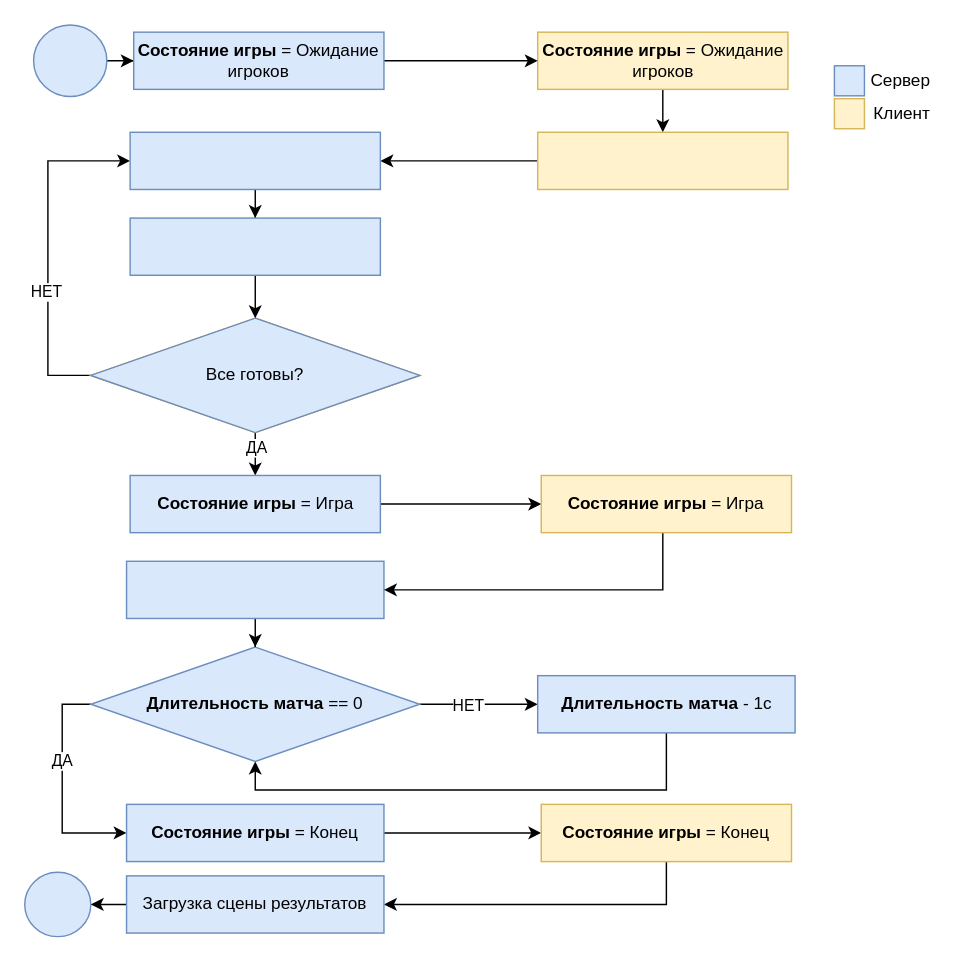
The diagram is 968 pixels wide and 962 high, and some of its shapes have lost their labels. The centre of each missing label's shape, as x and y in pixels:
"Длительность матча = 60" goes at (x=254, y=589).
"Зафиксировать готовность игрока" goes at (x=254, y=246).
"Конец" goes at (x=57, y=904).
"Начало" goes at (x=69, y=60).
"Ожидание ответов о готовности" goes at (x=254, y=160).
"Подтверждение готовности" goes at (x=662, y=160).
